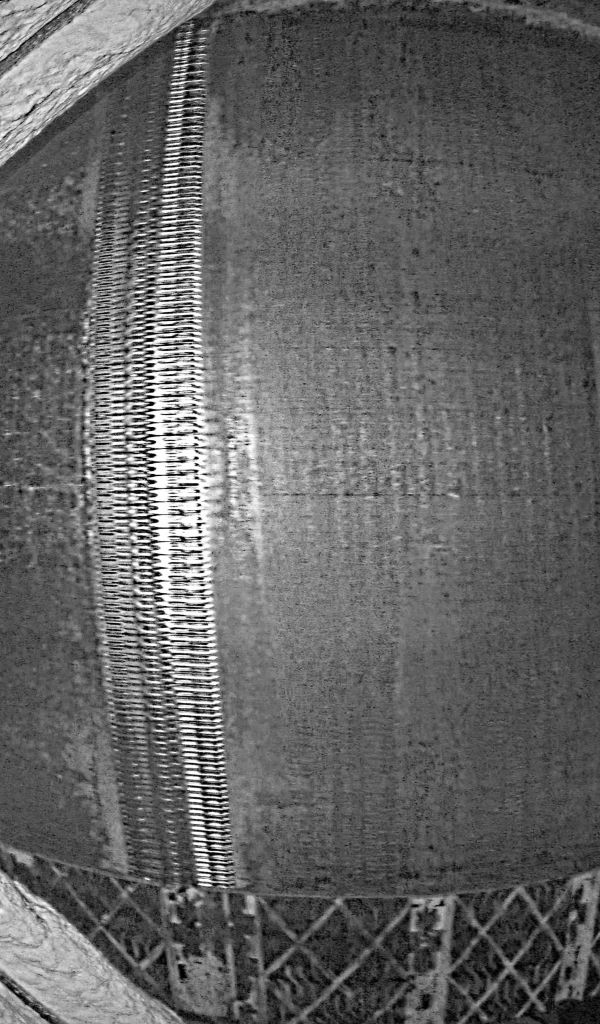splice: (78, 18, 243, 885)
